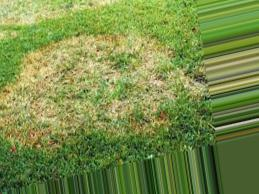patch: (39, 54, 136, 125), (72, 39, 157, 111)
